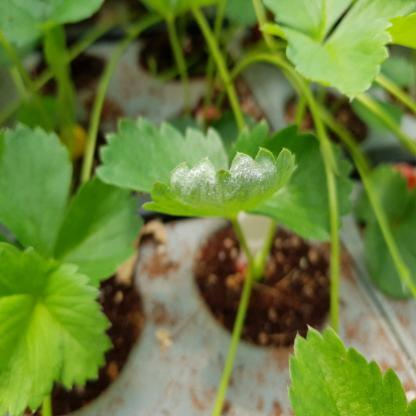Strawberry_Powdery_Mildew_Leaf: (140, 147, 298, 219)
